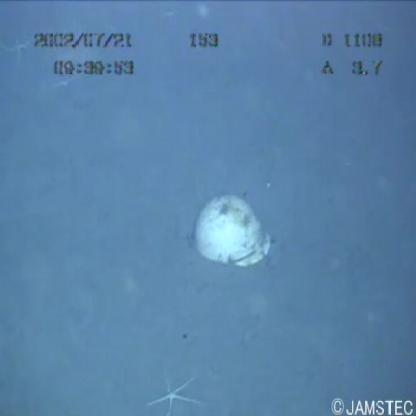Rác: (173, 187, 304, 276)
